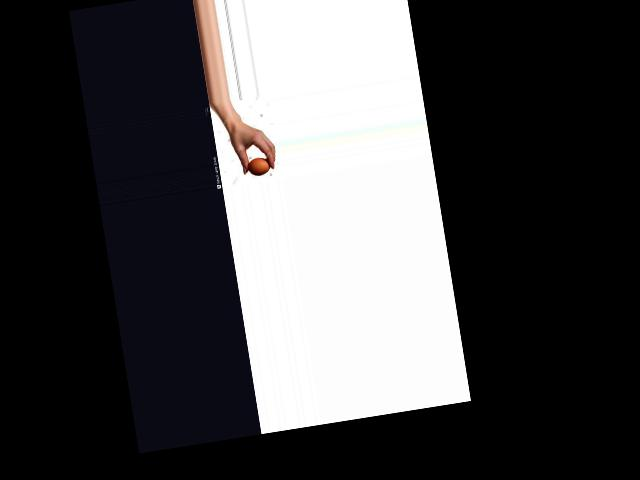egg: (246, 155, 270, 177)
